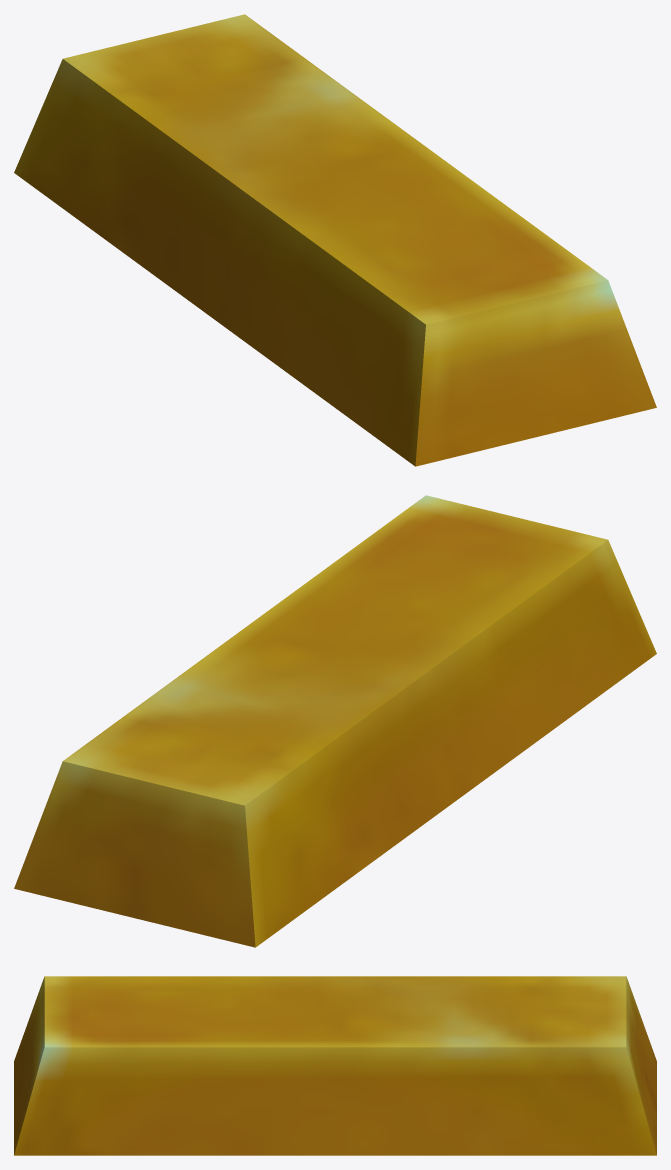
File: zw_jinzhuang.FBX
3 renders of one model, top to bottom at view 1: azimuth 30°, elevation 25°; view 2: azimuth 150°, elevation 25°; view 3: azimuth 270°, elevation 25°, orthographic. The views are drawn at different scales.
Visible parts, largest first — view 1: Box001; view 2: Box001; view 3: Box001.
Part boxes in pixels (bbox=[...]): Box001: bbox=[14, 14, 656, 466]; Box001: bbox=[14, 495, 656, 947]; Box001: bbox=[14, 976, 656, 1155].
Size of the model in its own units: 26.04 by 12.45 by 74.97.
